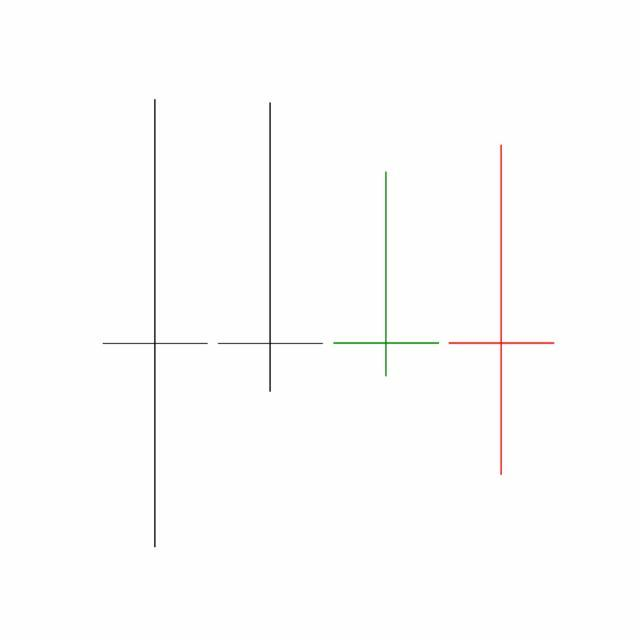Gravestone Doji: (329, 170, 445, 380)
